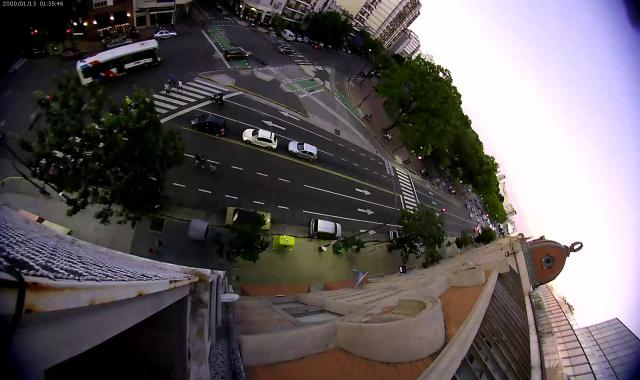bus: (77, 38, 163, 90)
car: (190, 113, 228, 136), (242, 128, 279, 150), (288, 140, 318, 162), (222, 48, 250, 62), (106, 37, 134, 50), (152, 28, 178, 40), (60, 48, 80, 60), (280, 29, 293, 42), (277, 45, 295, 54), (312, 43, 324, 50), (302, 36, 310, 44), (296, 34, 302, 42), (292, 34, 296, 41), (470, 208, 476, 212), (465, 204, 470, 208), (469, 214, 474, 218), (473, 228, 478, 232)
